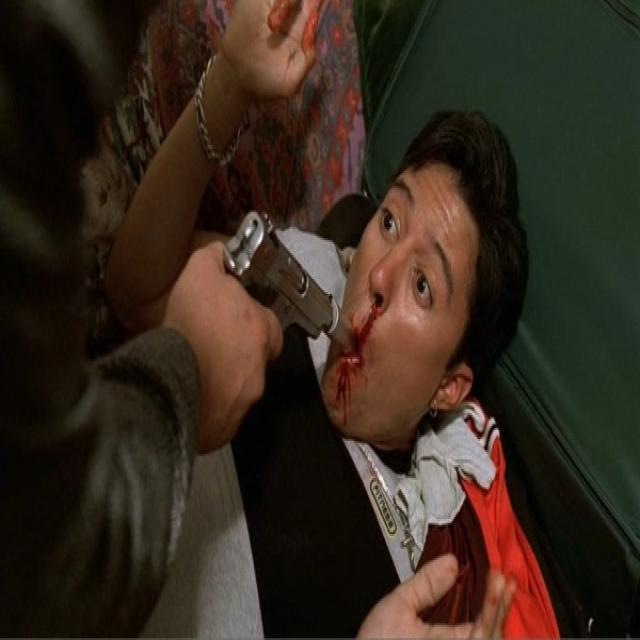weapons: (178, 177, 353, 373)
